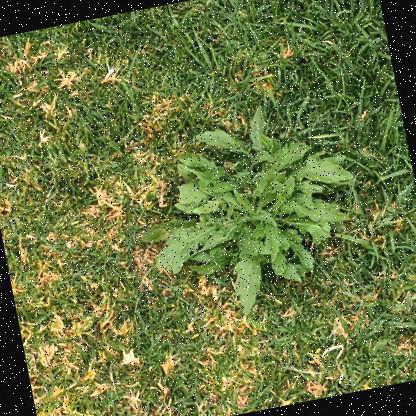Weeds: (118, 88, 377, 336)
